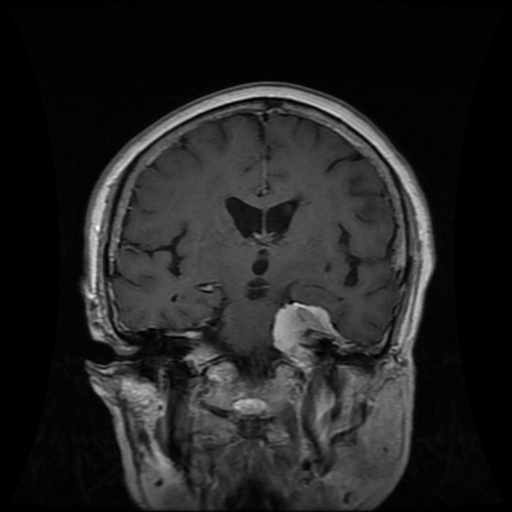meningioma: (271, 301, 337, 370)
